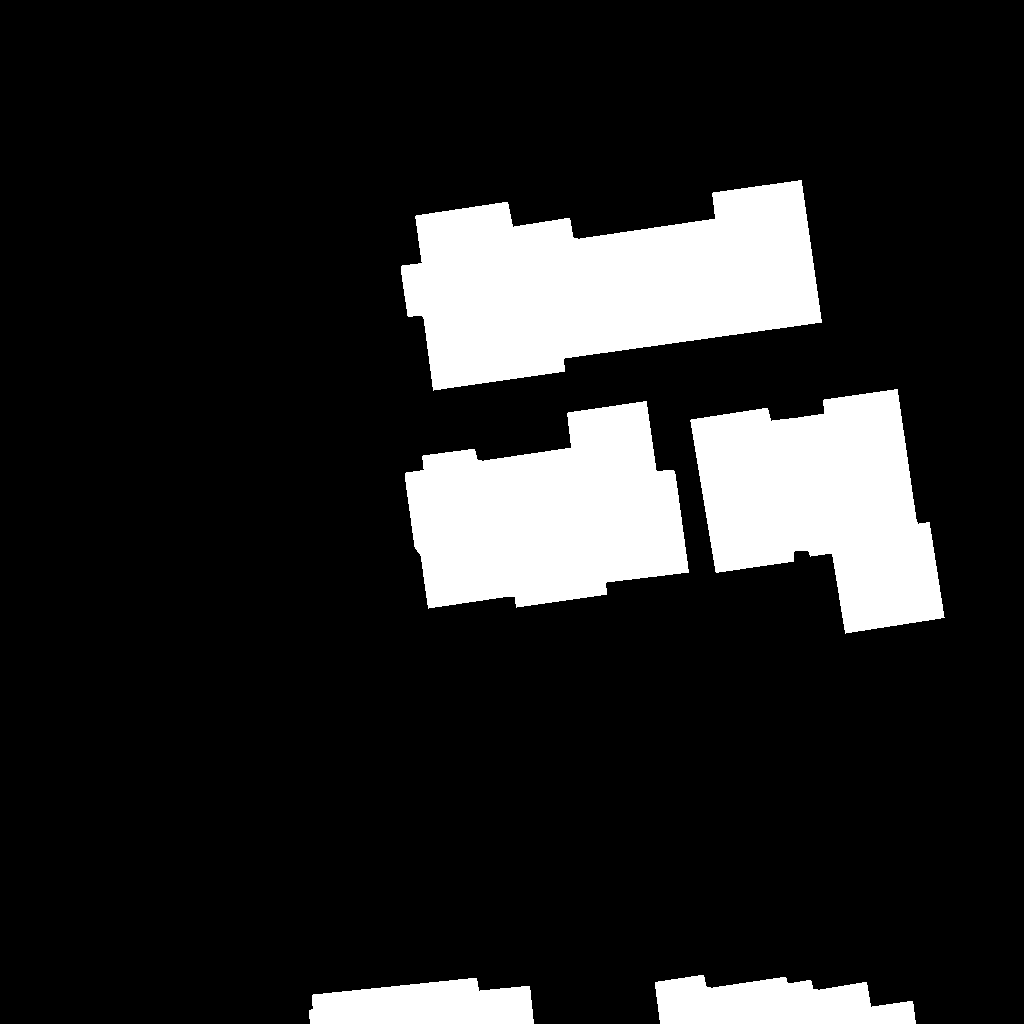building: (401, 180, 823, 391), (690, 389, 945, 634), (405, 401, 690, 609), (655, 975, 917, 1024), (309, 978, 535, 1024)
